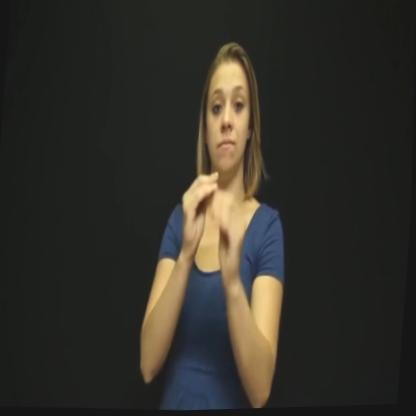Fix: (174, 155, 254, 310)
